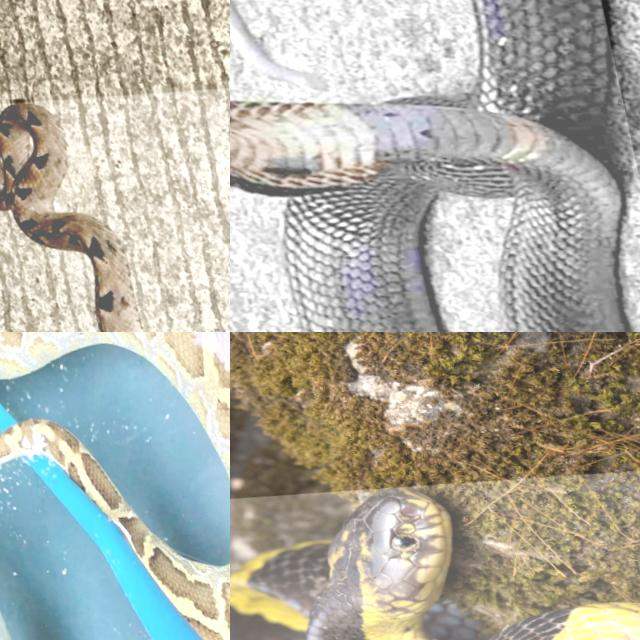Bungarus fasciatus: (230, 486, 450, 639)
Calloselasma rhodostoma: (0, 99, 141, 331)
Naja siamensis: (230, 0, 626, 331)
Python bivittatus: (0, 332, 229, 475)
